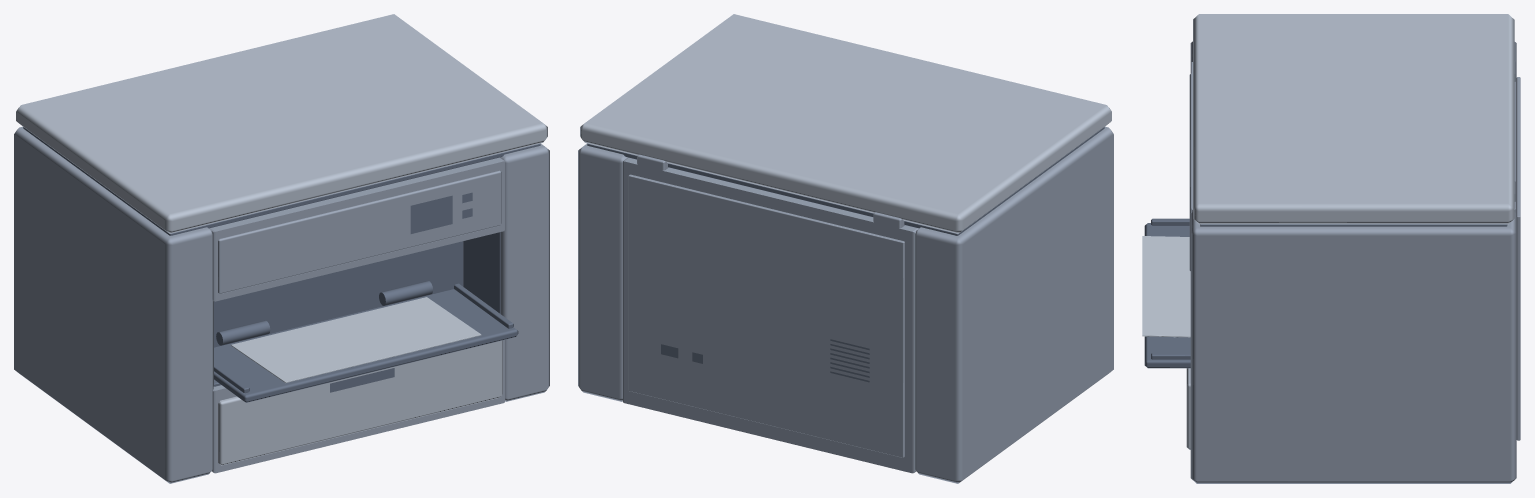
File: 打印机-lite.glb
The picture shows the model from 3 angles, left to right: view 1: azimuth 30°, elevation 25°; view 2: azimuth 150°, elevation 25°; view 3: azimuth 270°, elevation 25°; orthographic projection. The views are drawn at different scales.
Parts seen in each view (by area): view 1: printer; view 2: printer; view 3: printer.
Part boxes in pixels (x1,y1,x2,y2): printer: [14, 14, 549, 483]; printer: [578, 14, 1113, 483]; printer: [1142, 14, 1520, 483].
Bounding box in the file's own units: 0.44 × 0.3 × 0.36.
